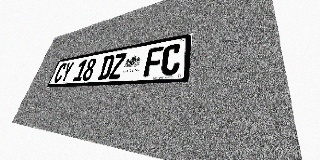1: (72, 59, 89, 82)
8: (81, 57, 98, 81)
C: (160, 43, 182, 76), (53, 63, 67, 83)
D: (97, 54, 115, 80)
F: (143, 46, 164, 77)
Y: (59, 62, 75, 82)
Z: (108, 52, 127, 79)
